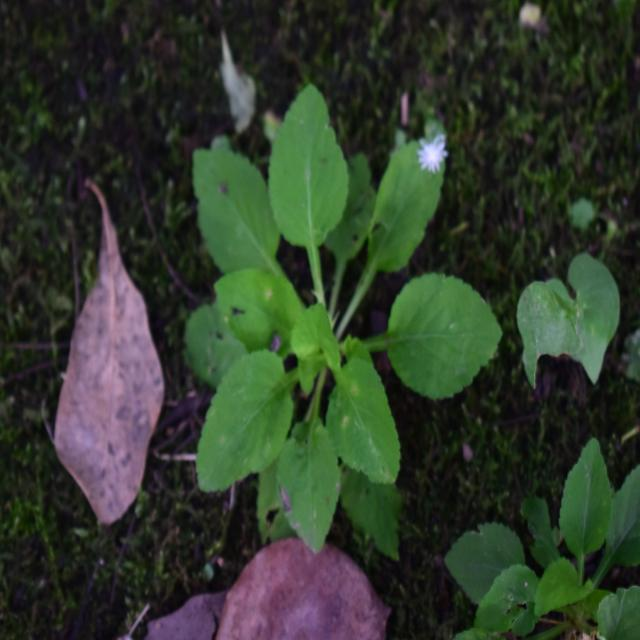Viola: (185, 100, 475, 512)
